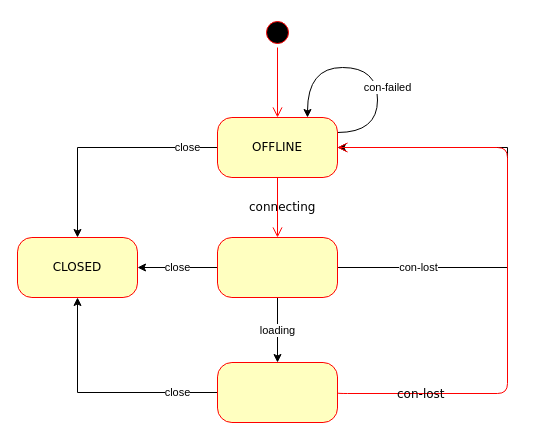
Image size: 535x440. Some labels were removed from this diagram. The shapes that lost their labels are listed below. From the top down, each one's centre as x and y in pixels, then its label:
point 277,267: AUTHENTICATED
point 277,392: READY
